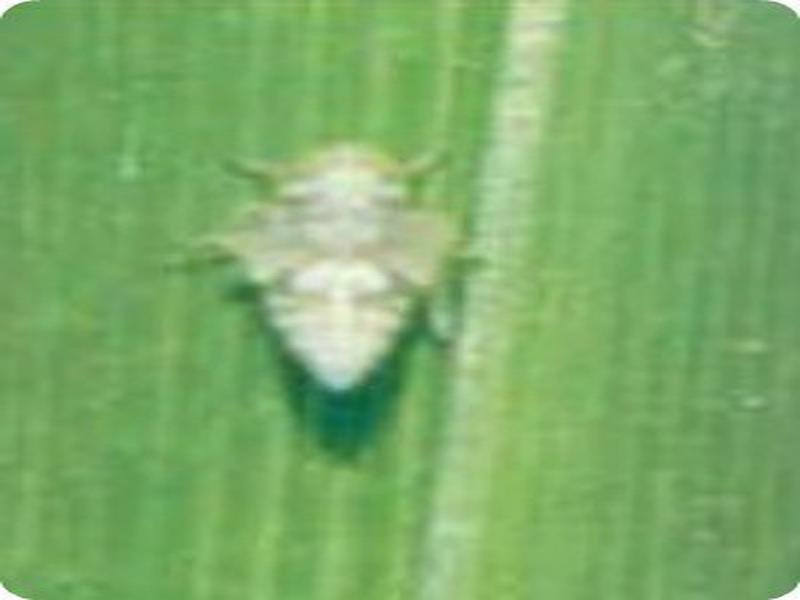White_backed_plant_hopper: (208, 137, 473, 402)
